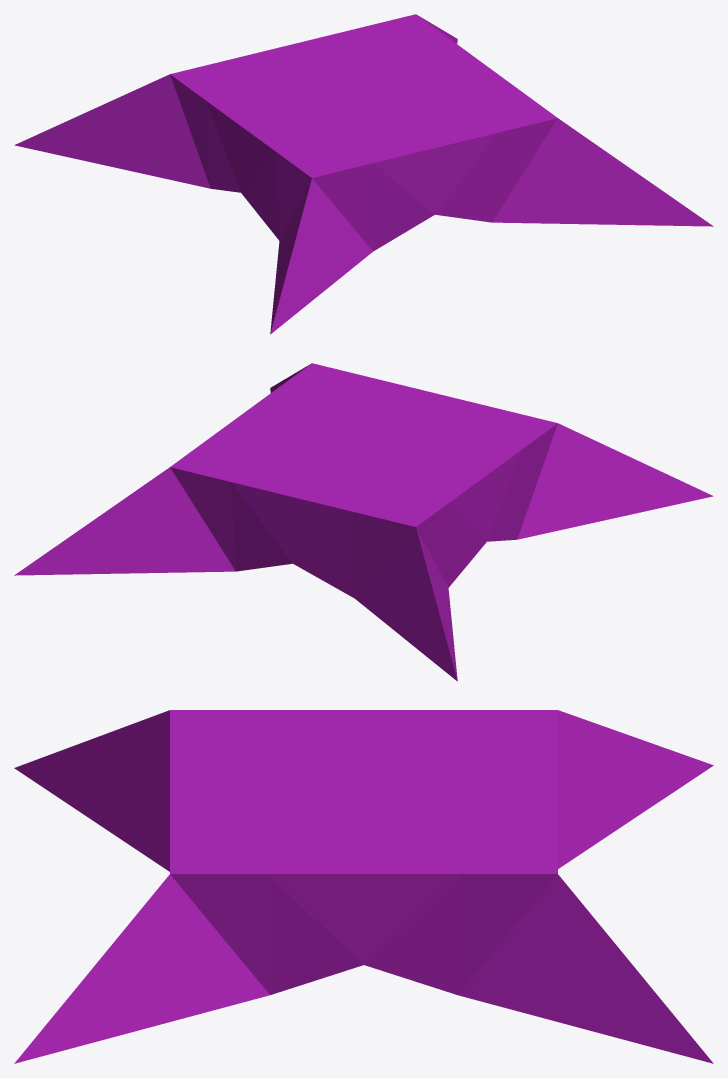
Rendered from spawnerHead.obj.
3 views of the same model, one above another, from view 1: azimuth 30°, elevation 25°; view 2: azimuth 150°, elevation 25°; view 3: azimuth 270°, elevation 25° (orthographic). The views are drawn at different scales.
Parts seen in each view (by area): view 1: Cube.001; view 2: Cube.001; view 3: Cube.001.
Boxes of the visible parts, x1,y1,x2,y2 form: Cube.001: [14, 14, 713, 334]; Cube.001: [14, 363, 713, 681]; Cube.001: [14, 710, 713, 1063].
Size of the model in its own units: 2.29 by 0.4475 by 2.29.
